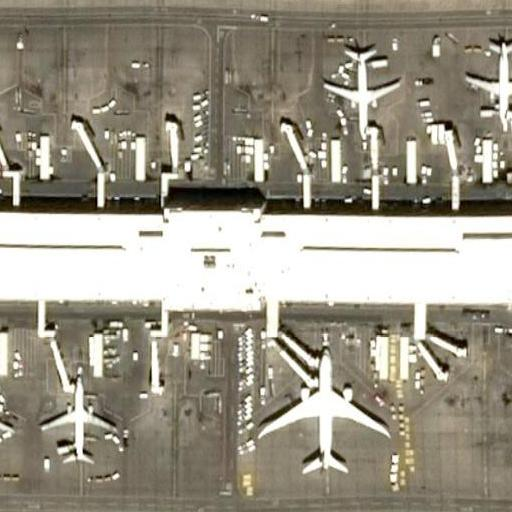Aircraft: (253, 349, 393, 479), (38, 378, 128, 465), (320, 43, 401, 132), (454, 33, 512, 125), (0, 379, 19, 474)
